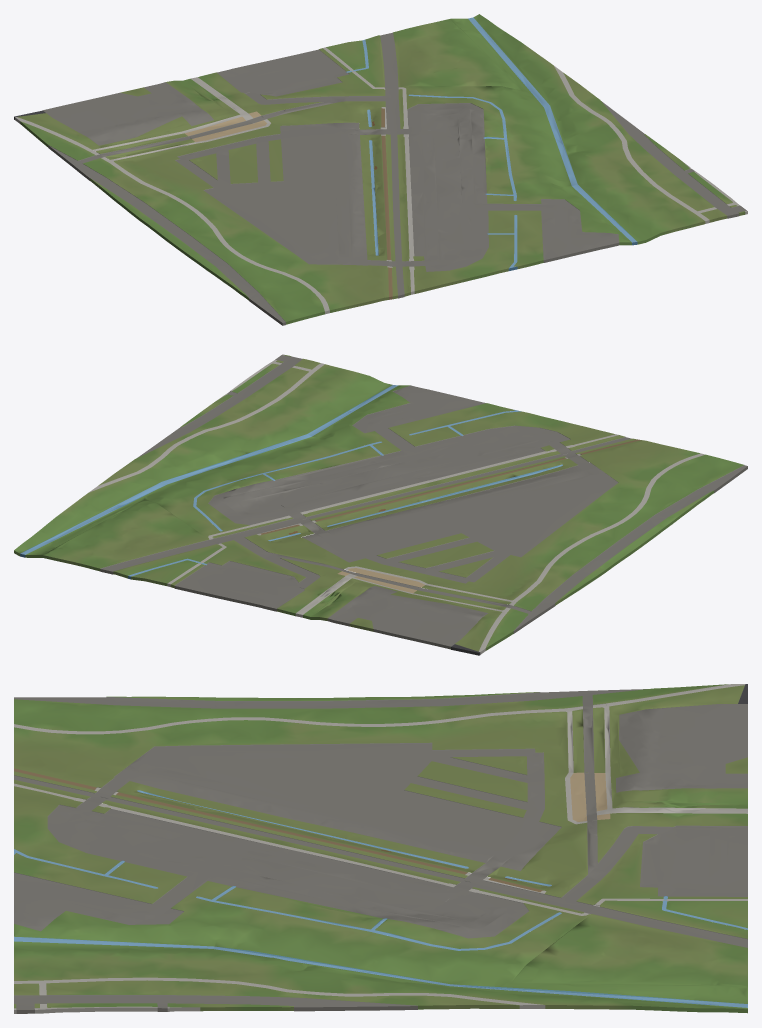
3 views of the same model, one above another, from view 1: azimuth 30°, elevation 25°; view 2: azimuth 150°, elevation 25°; view 3: azimuth 270°, elevation 25° (orthographic). The views are drawn at different scales.
Parts seen in each view (by area): view 1: T-1-2.L1:utd:matte, T-1-2.L1:utd:water; view 2: T-1-2.L1:utd:matte, T-1-2.L1:utd:water; view 3: T-1-2.L1:utd:matte, T-1-2.L1:utd:water.
Boxes of the visible parts, bbox=[...] form: T-1-2.L1:utd:matte: bbox=[14, 14, 747, 325]; T-1-2.L1:utd:water: bbox=[346, 17, 636, 268]; T-1-2.L1:utd:matte: bbox=[14, 354, 747, 655]; T-1-2.L1:utd:water: bbox=[20, 385, 562, 576]; T-1-2.L1:utd:matte: bbox=[14, 684, 747, 1013]; T-1-2.L1:utd:water: bbox=[14, 790, 747, 1007].
Bounding box in the file's own units: 256 × 9.68 × 256.
